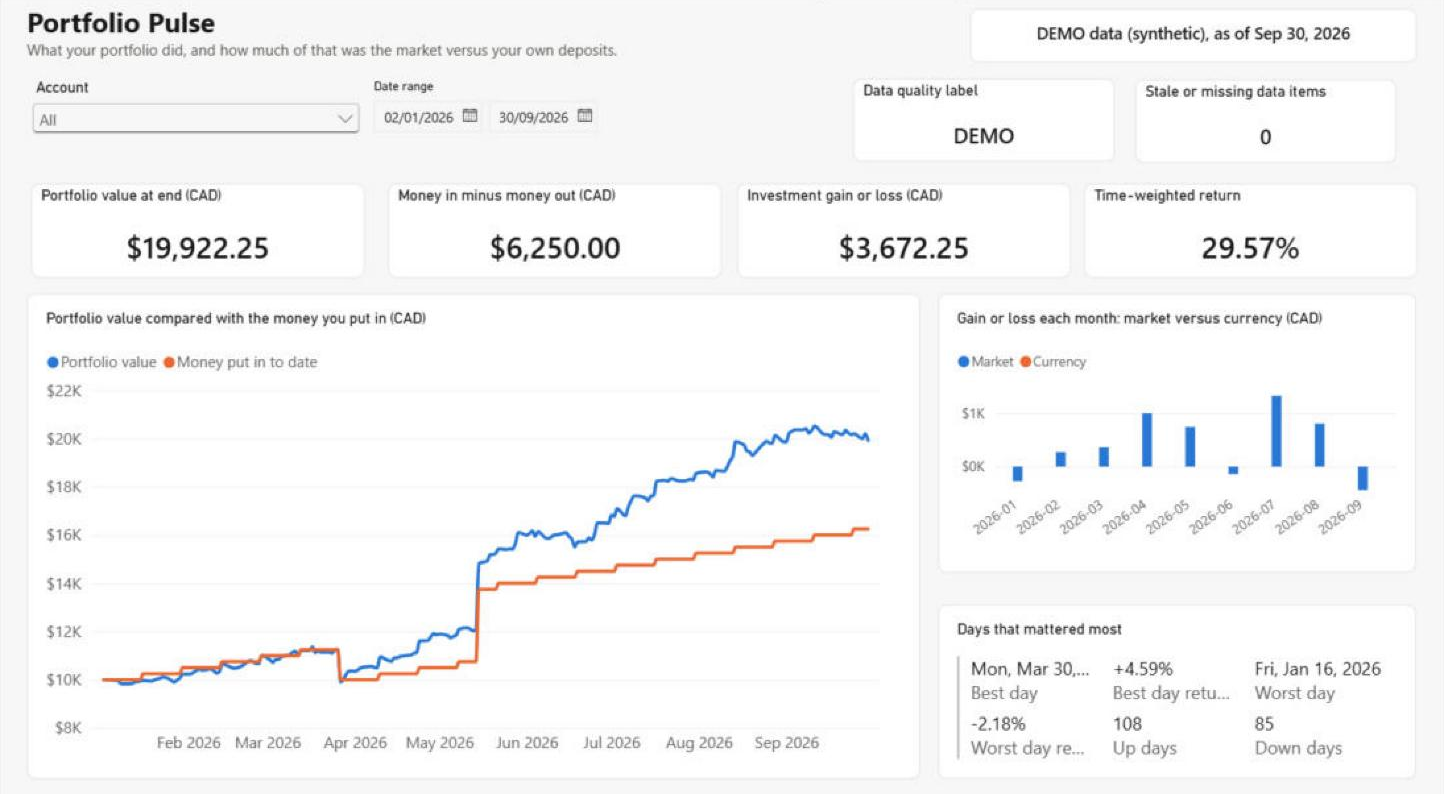

The page's visual inventory and layout, read from the dashboard file:
{"tool":"powerbi","page":{"name":"Overview","canvas":[1280,720],"ordinal":0},"visuals":[{"type":"textbox","box":[24,8,820,60],"z":0},{"type":"card","fields":{"Values":["_Measures.Data as of"]},"box":[860,12,396,48],"z":1000},{"type":"slicer","fields":{"Values":["dim_account.display_name"]},"box":[23.9,74.5,300,74],"z":3000},{"type":"slicer","fields":{"Values":["dim_date.date"]},"box":[323.6,75.4,420,74],"z":4000},{"type":"card","title":"Data quality label","fields":{"Values":["_Measures.Quality label"]},"box":[756.4,74.5,232,74],"z":5000},{"type":"card","title":"Stale or missing data items","fields":{"Values":["_Measures.Data quality issues"]},"box":[1006.4,75.4,232,74],"z":6000},{"type":"card","title":"Portfolio value at end (CAD)","fields":{"Values":["_Measures.Portfolio value at end (CAD)"]},"box":[27.5,167.6,296,84],"z":7000},{"type":"card","title":"Money in minus money out (CAD)","fields":{"Values":["_Measures.Net deposits & transfers (CAD)"]},"box":[344,167.6,296,84],"z":8000},{"type":"card","title":"Investment gain or loss (CAD)","fields":{"Values":["_Measures.Investment gain/loss (CAD)"]},"box":[653.5,167.6,296,84],"z":9000},{"type":"card","title":"Time-weighted return","fields":{"Values":["_Measures.Time-weighted return (CAD)"]},"box":[961.2,167.6,296,84],"z":10000},{"type":"lineChart","title":"Portfolio value compared with the money you put in (CAD)","fields":{"Category":["dim_date.date"],"Y":["_Measures.Portfolio value at end (CAD)","_Measures.Money put in to date (CAD)"]},"box":[23.9,265.1,791.8,430.9],"z":11000},{"type":"clusteredColumnChart","title":"Gain or loss each month: market versus currency (CAD)","fields":{"Category":["dim_date.year_month"],"Y":["_Measures.Market gain/loss (CAD)","_Measures.Currency gain/loss (CAD)"]},"box":[831.7,265.1,423.8,248.3],"z":12000},{"type":"multiRowCard","title":"Days that mattered most","fields":{"Values":["_Measures.Best day","_Measures.Best day return","_Measures.Worst day","_Measures.Worst day return","_Measures.Up days","_Measures.Down days"]},"box":[831.7,540.9,423.8,155.2],"z":13000}]}

Visuals, with their boxes in screenshot pixels (x1, y1, x2, y2), scaled from the page's 1280x720 canvas onto the 1444x794 screenshot:
textbox: crop(27, 9, 952, 75)
card - _Measures.Data as of: crop(970, 13, 1417, 66)
slicer - dim_account.display_name: crop(27, 82, 365, 164)
slicer - dim_date.date: crop(365, 83, 839, 165)
"Data quality label" card: crop(853, 82, 1115, 164)
"Stale or missing data items" card: crop(1135, 83, 1397, 165)
"Portfolio value at end (CAD)" card: crop(31, 185, 365, 277)
"Money in minus money out (CAD)" card: crop(388, 185, 722, 277)
"Investment gain or loss (CAD)" card: crop(737, 185, 1071, 277)
"Time-weighted return" card: crop(1084, 185, 1418, 277)
"Portfolio value compared with the money you put in (CAD)" lineChart: crop(27, 292, 920, 768)
"Gain or loss each month: market versus currency (CAD)" clusteredColumnChart: crop(938, 292, 1416, 566)
"Days that mattered most" multiRowCard: crop(938, 596, 1416, 768)
